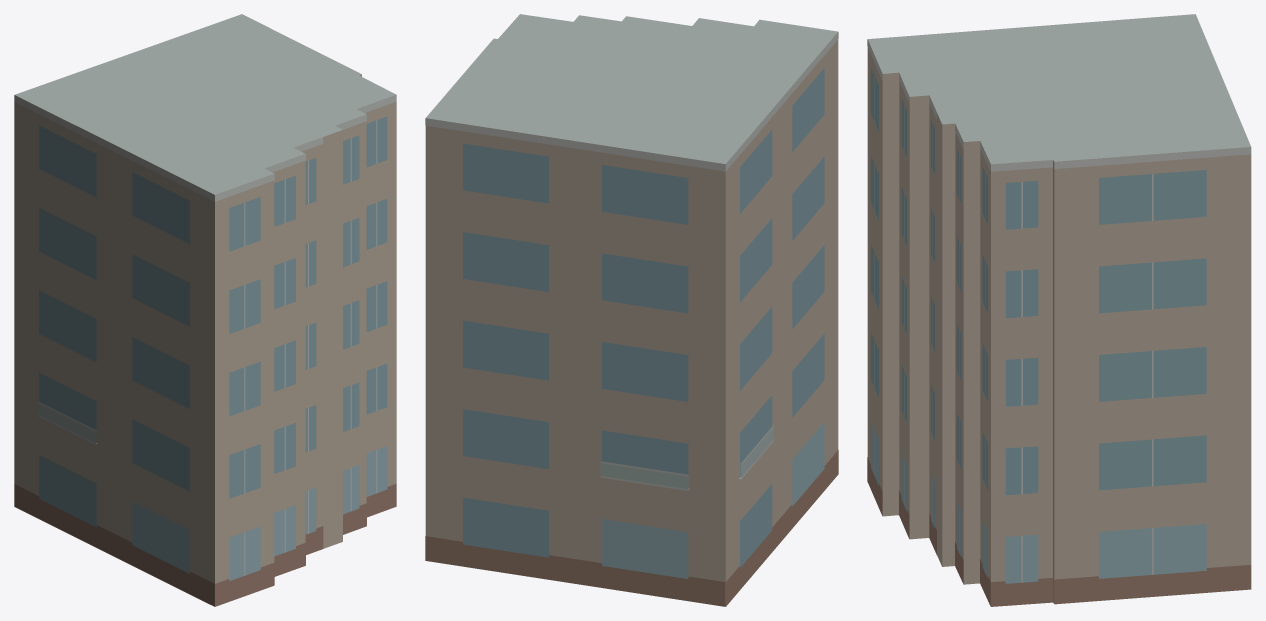
File: survey-upis-32705109.glb
The picture shows the model from 3 angles, left to right: view 1: azimuth 30°, elevation 25°; view 2: azimuth 150°, elevation 25°; view 3: azimuth 270°, elevation 25°; orthographic projection. The views are drawn at different scales.
Visible parts, largest first — view 1: survey-upis-32705109.tmp; view 2: survey-upis-32705109.tmp; view 3: survey-upis-32705109.tmp.
Boxes of the visible parts, <box> form: survey-upis-32705109.tmp: <box>14,14,396,606</box>; survey-upis-32705109.tmp: <box>425,14,838,606</box>; survey-upis-32705109.tmp: <box>867,14,1251,606</box>.
Bounding box in the file's own units: 10.67 × 14.64 × 11.51.
